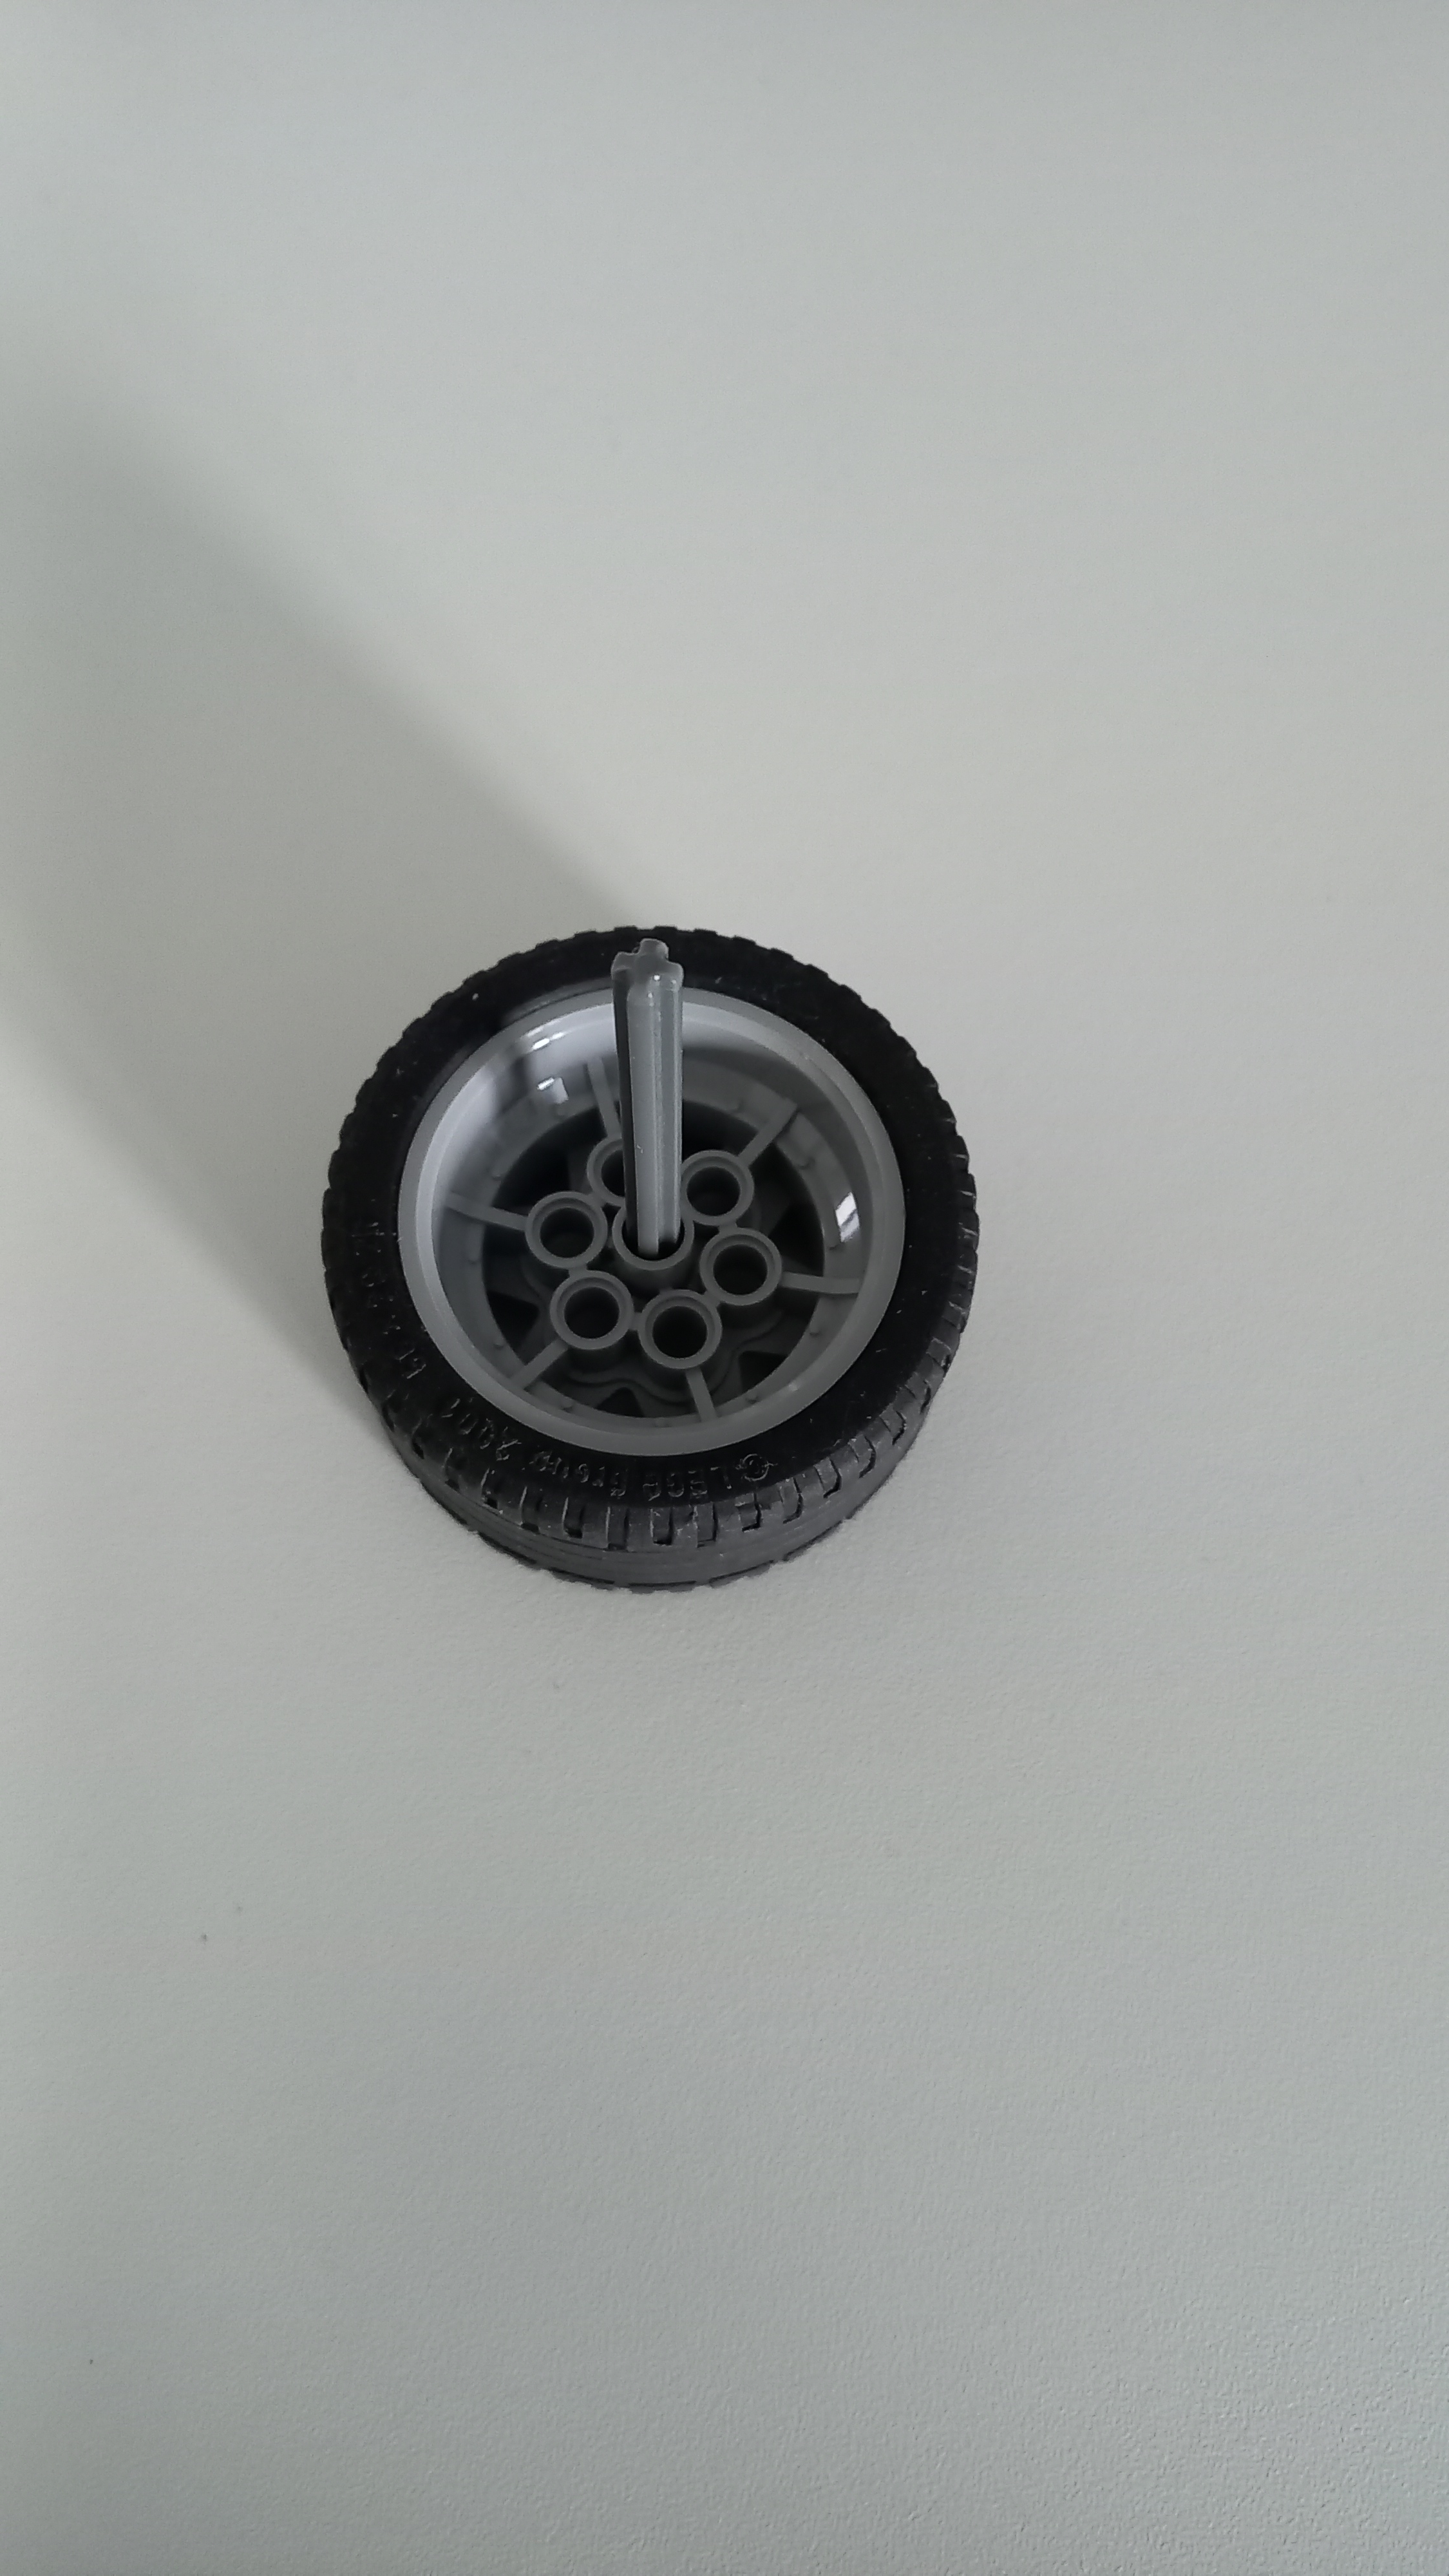Rad+Grau_lang: (294, 874, 1005, 1629)
